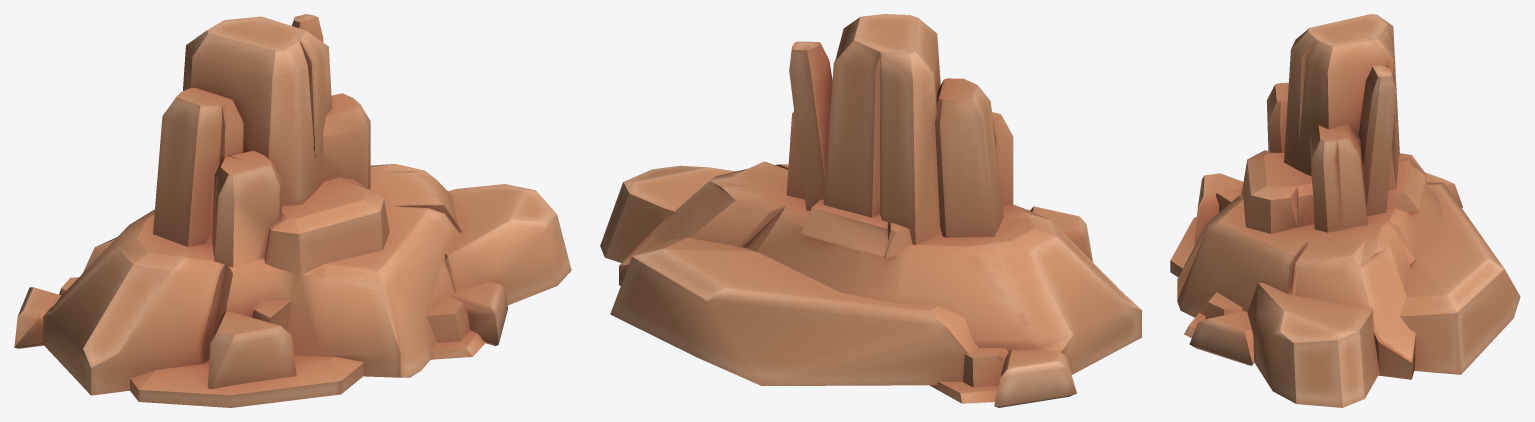
File: rock_5.glb
3 renders of one model, left to right at view 1: azimuth 30°, elevation 25°; view 2: azimuth 150°, elevation 25°; view 3: azimuth 270°, elevation 25°, orthographic. The views are drawn at different scales.
Visible parts, largest first — view 1: Rock_5; view 2: Rock_5; view 3: Rock_5.
Boxes of the visible parts, bbox=[...] form: Rock_5: bbox=[14, 14, 571, 407]; Rock_5: bbox=[600, 14, 1141, 407]; Rock_5: bbox=[1170, 14, 1520, 407].
Size of the model in its own units: 7.62 by 4.34 by 5.16.
Materials: 1 (1 with a texture image).
